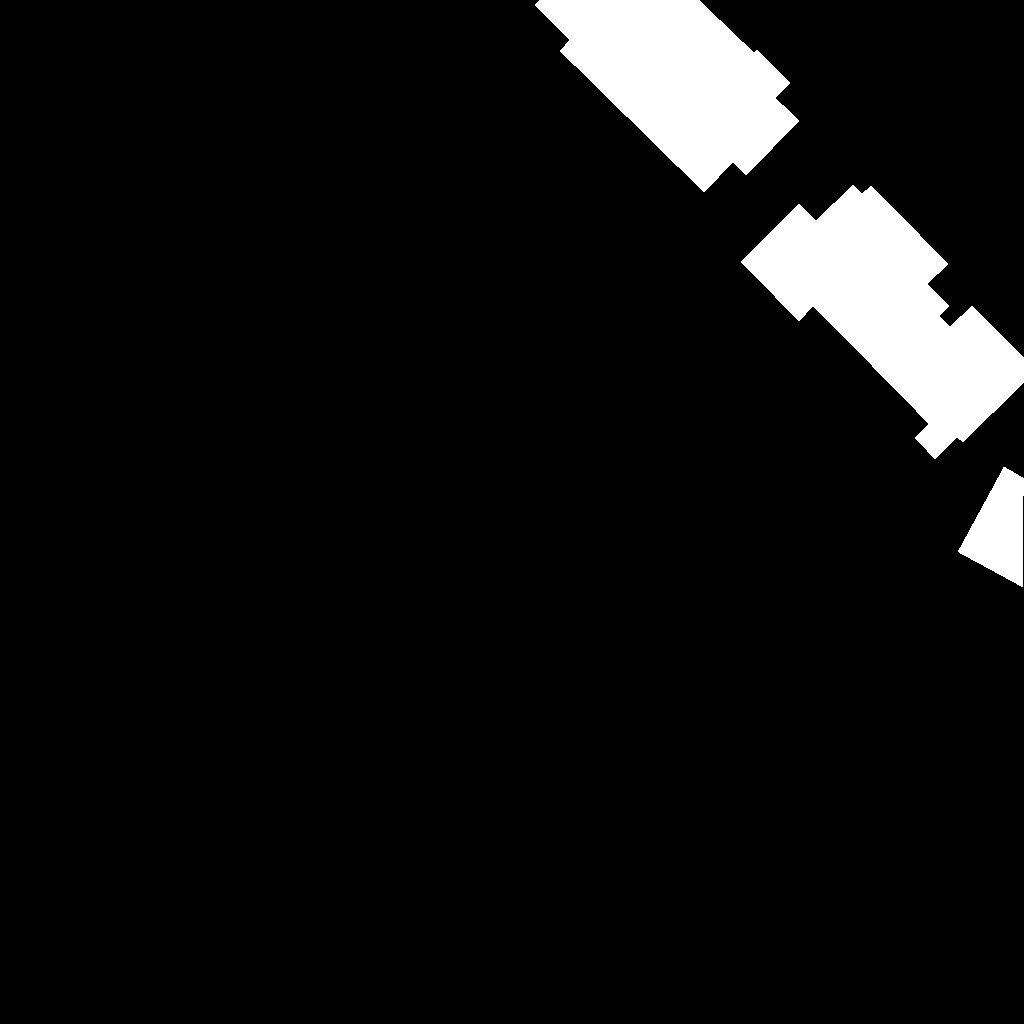building: (741, 185, 1024, 460), (535, 0, 800, 193), (958, 467, 1024, 588)
